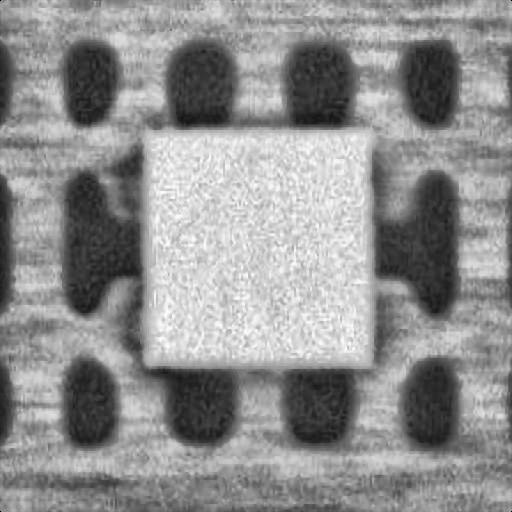DIE_CRACK: (223, 98, 385, 176)
